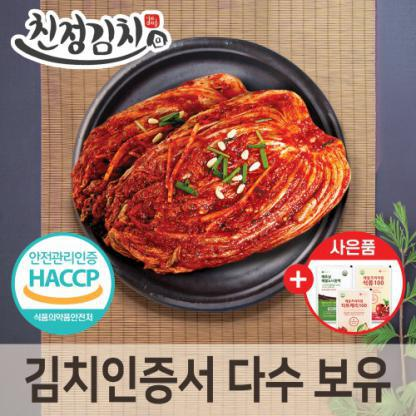kimchi: (62, 78, 354, 270)
